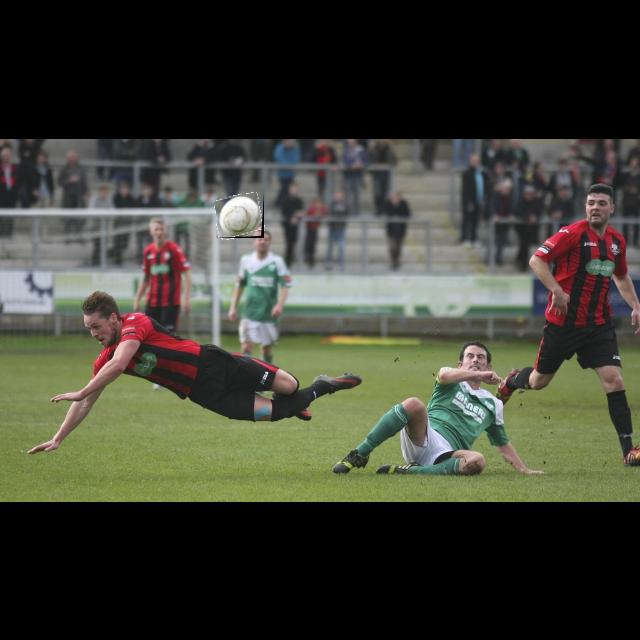Football: (216, 194, 264, 238)
